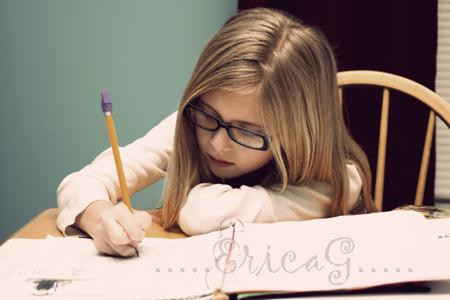person: (56, 10, 379, 259)
